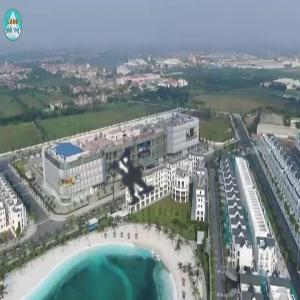drone: (66, 104, 209, 247)
